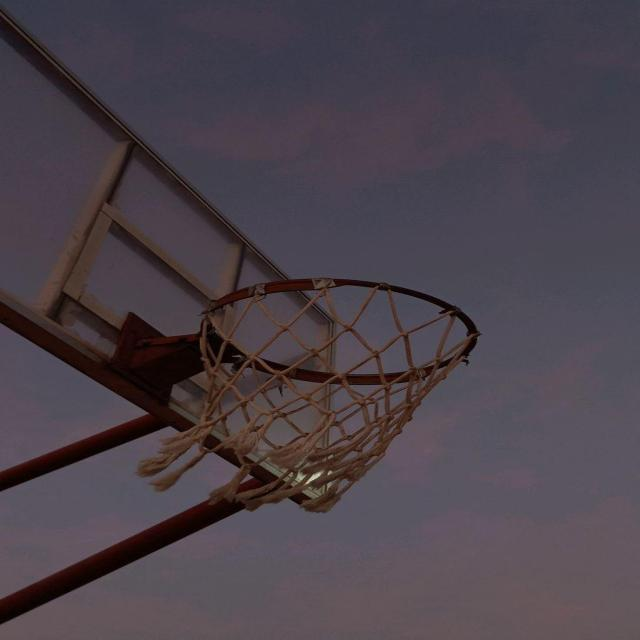hoop: (168, 293, 474, 484)
